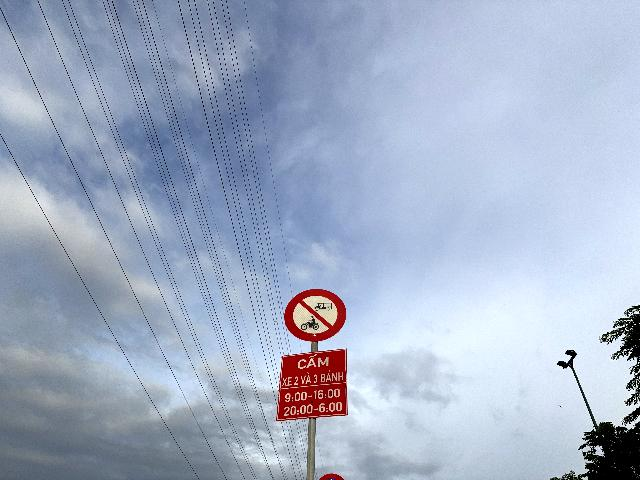cam-xe-2-banh-3-banh: (284, 288, 346, 342)
